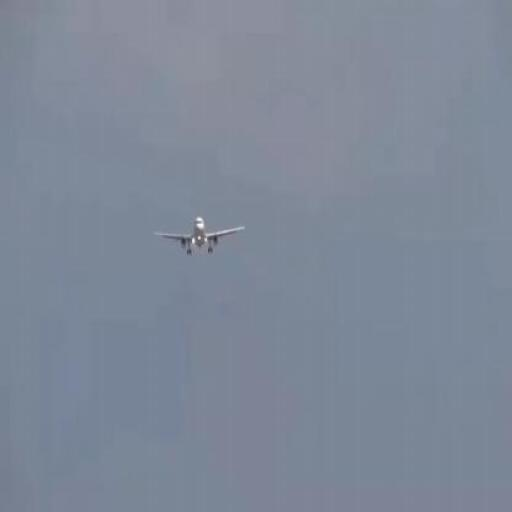aircraft: (153, 216, 246, 256)
